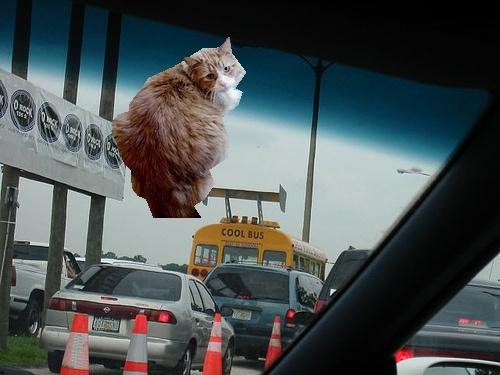tampered: (112, 38, 246, 218)
